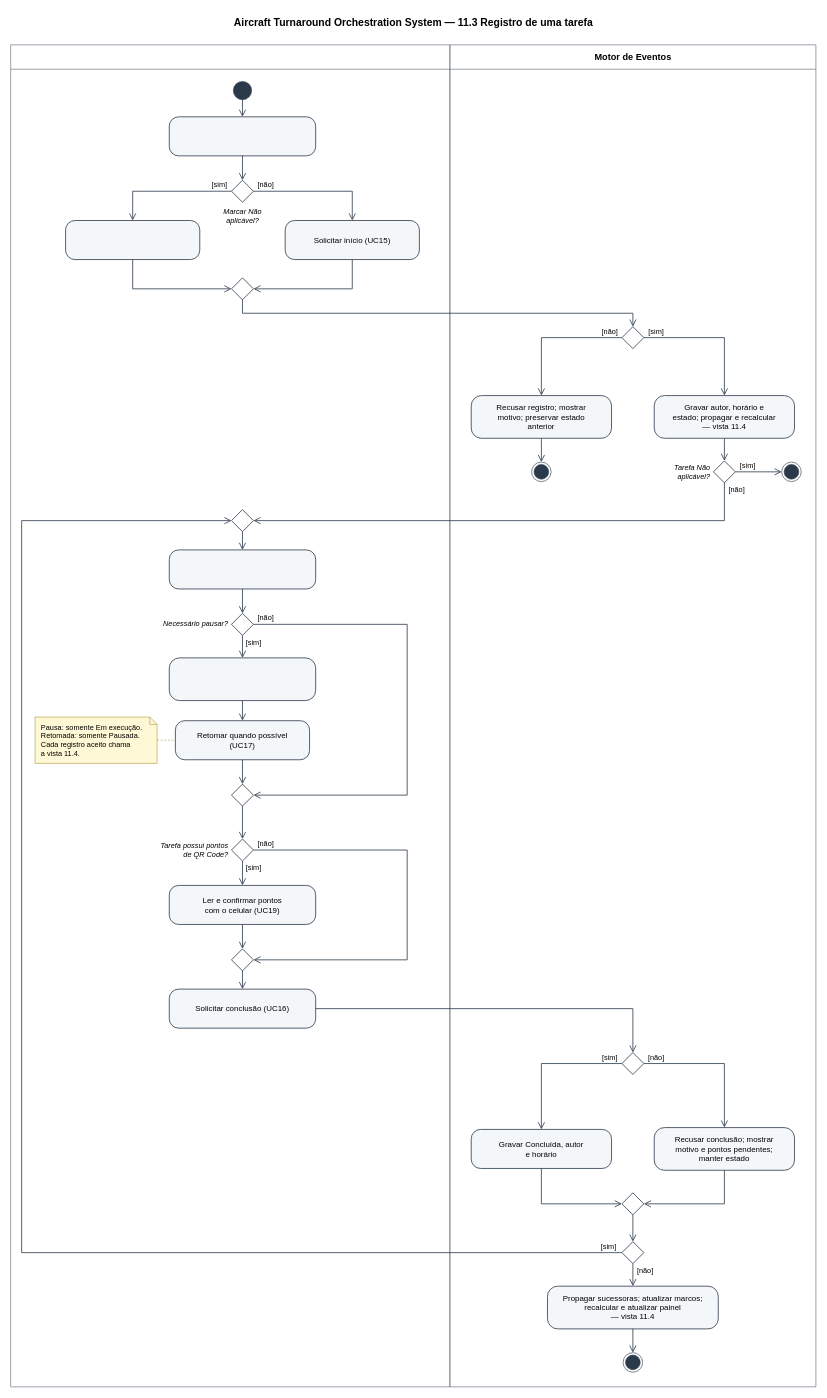
The diagram is 827 pixels wide and 1398 high, and some of its shapes have lost their labels. Here are the shapes that lost their labels. From the top down, the box of each, then its label:
(169, 116, 316, 156): Consultar tarefa da sua equipe atribuída a si (UC14)
(65, 220, 200, 260): Solicitar marcação com justificativa (UC18)
(621, 326, 644, 349): Registro válido para atribuição, estado e modelo?
(169, 549, 316, 589): Executar tarefa
(169, 657, 316, 701): Registrar pausa com justificativa e código do impedimento, se houver (UC17)
(10, 44, 450, 1387): Operador de Solo/Rampa
(621, 1052, 644, 1075): Em execução, atribuída e todos os pontos confirmados?
(621, 1241, 644, 1264): Conclusão recusada?
